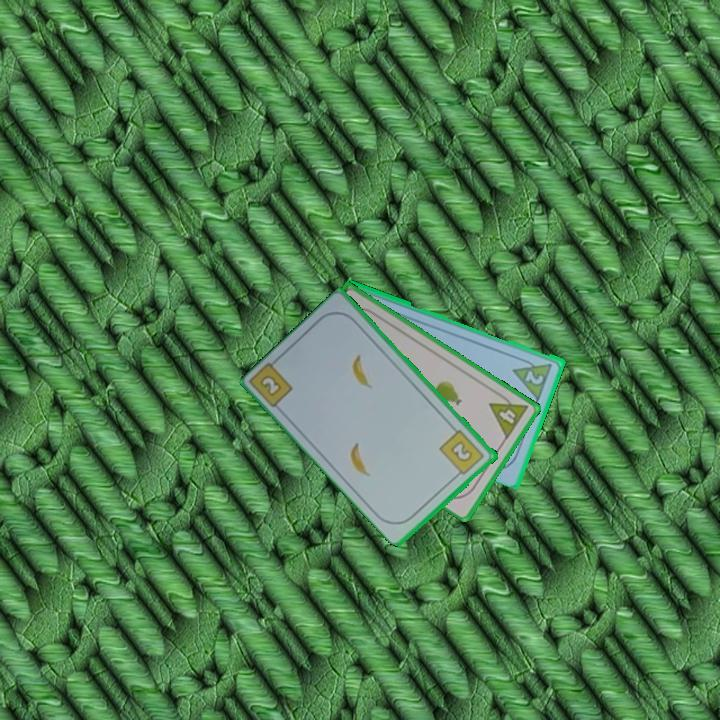2b: (436, 426, 487, 480), (257, 371, 285, 399)
2p: (522, 366, 547, 387)
4p: (486, 388, 531, 442)
